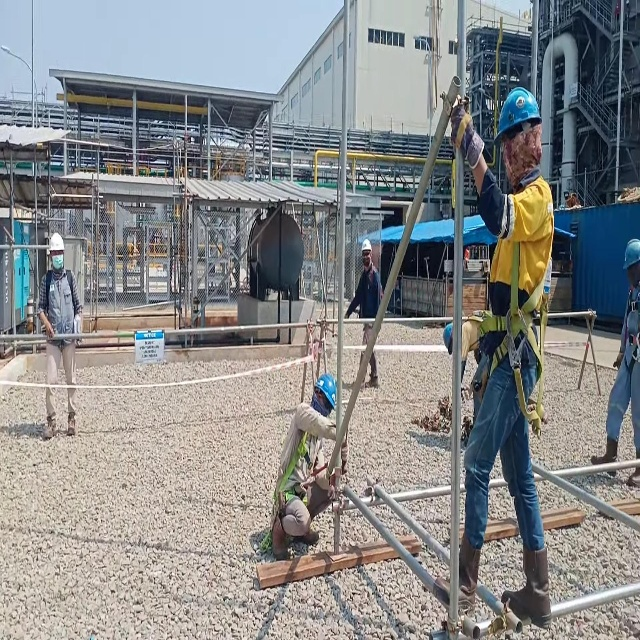Arnes_seguridad: (477, 235, 550, 431), (259, 428, 321, 558), (622, 281, 640, 378)
